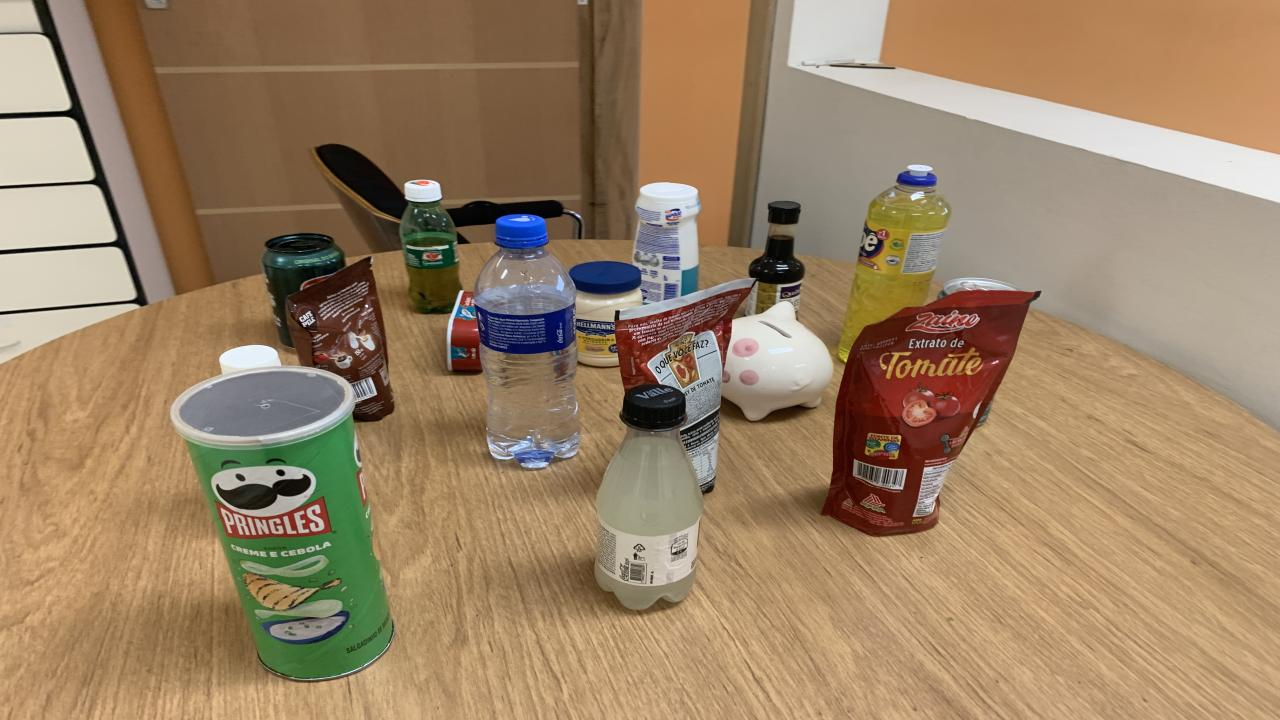Cleaner-Cleanup_Items: (632, 182, 700, 302)
Coffee-Pantry_Items: (285, 257, 395, 422)
Detergent-Cleanup_Items: (838, 165, 950, 362)
English_Sauce-Pantry_Items: (745, 201, 805, 315)
Guarana-Drinks: (400, 180, 460, 313)
Guarana_Can-Drinks: (260, 232, 345, 347)
Ketchup-Pantry_Items: (220, 345, 280, 373)
Mayonnaise-Pantry_Items: (570, 261, 642, 368)
Pig_Safe-Miscellaneous: (722, 302, 832, 422)
Pringles-Snacks: (170, 366, 392, 681)
Soda-Drinks: (595, 384, 702, 609)
Tea-Drinks: (938, 278, 1018, 298)
Tomato_Sauce-Pantry_Items: (822, 291, 1038, 536), (615, 278, 752, 491)
Tuna_Can-Pantry_Items: (448, 291, 482, 371)
Water_Bottle-Drinks: (475, 214, 580, 469)
